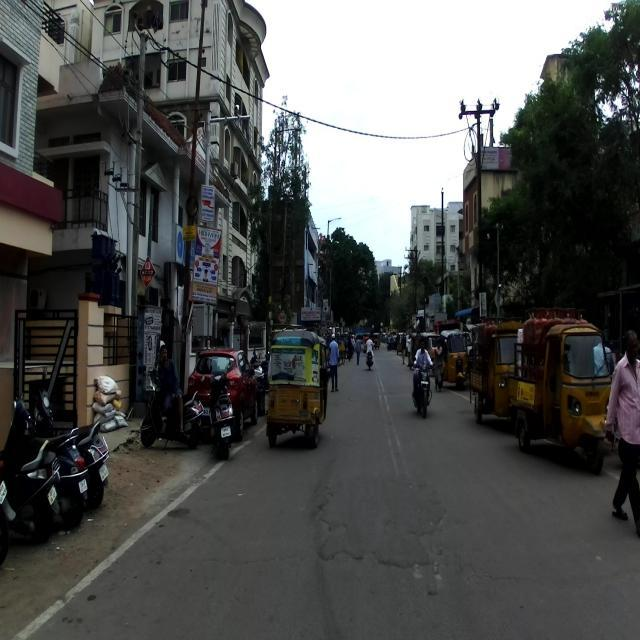pothole: (302, 453, 470, 631)
